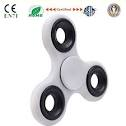fidget_spinner: (28, 7, 111, 125)
